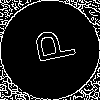P: (25, 25, 77, 67)
